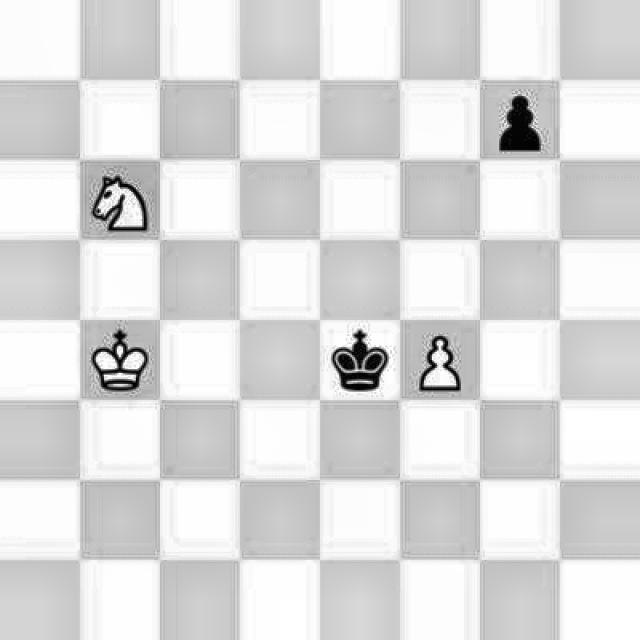black king: (325, 328, 390, 392)
black pawn: (483, 82, 551, 154)
white king: (83, 320, 154, 393)
white pawn: (410, 328, 474, 400)
whiteknight: (80, 162, 158, 240)
